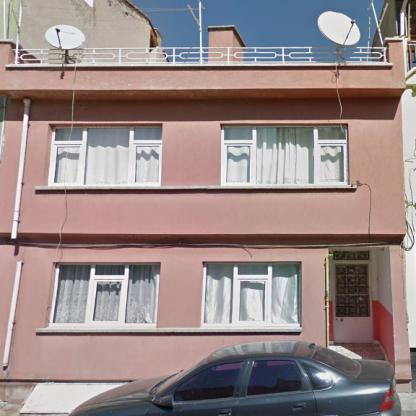door: (333, 263, 372, 343)
window: (223, 125, 348, 184), (51, 264, 158, 327), (50, 127, 160, 185), (202, 263, 301, 327), (332, 249, 370, 262)
